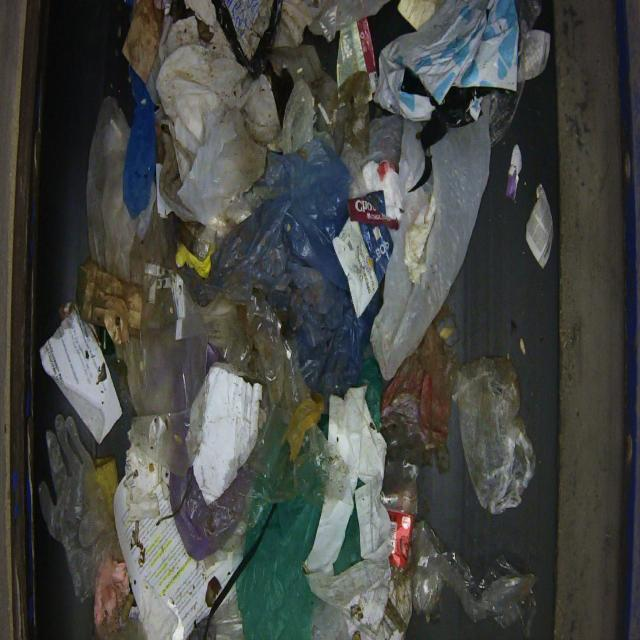other-trash: (34, 0, 553, 638)
